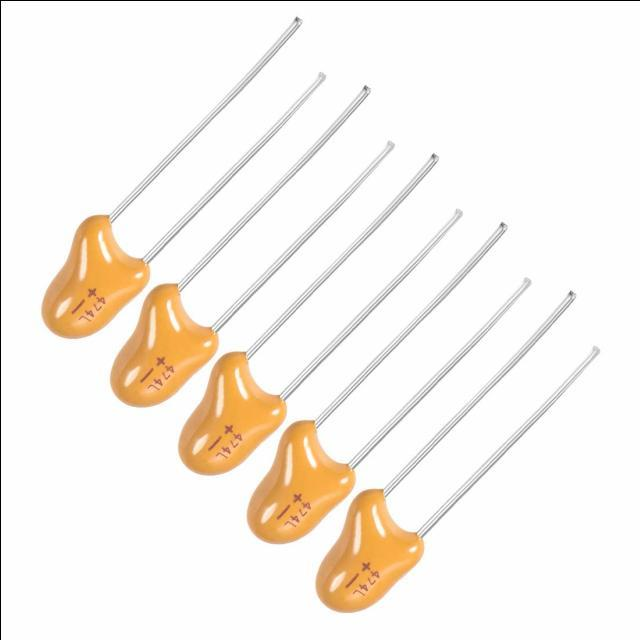Capacitor: (316, 318, 597, 612), (42, 20, 299, 337), (248, 252, 481, 543), (179, 239, 437, 474), (111, 170, 297, 406), (289, 239, 364, 314)
